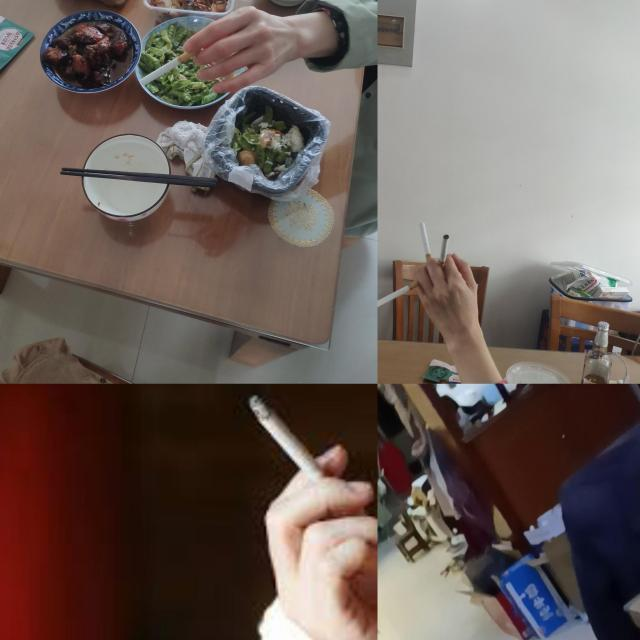smoke: (250, 395, 350, 513), (141, 47, 202, 87), (378, 278, 423, 310), (418, 222, 434, 268), (437, 234, 450, 273)
